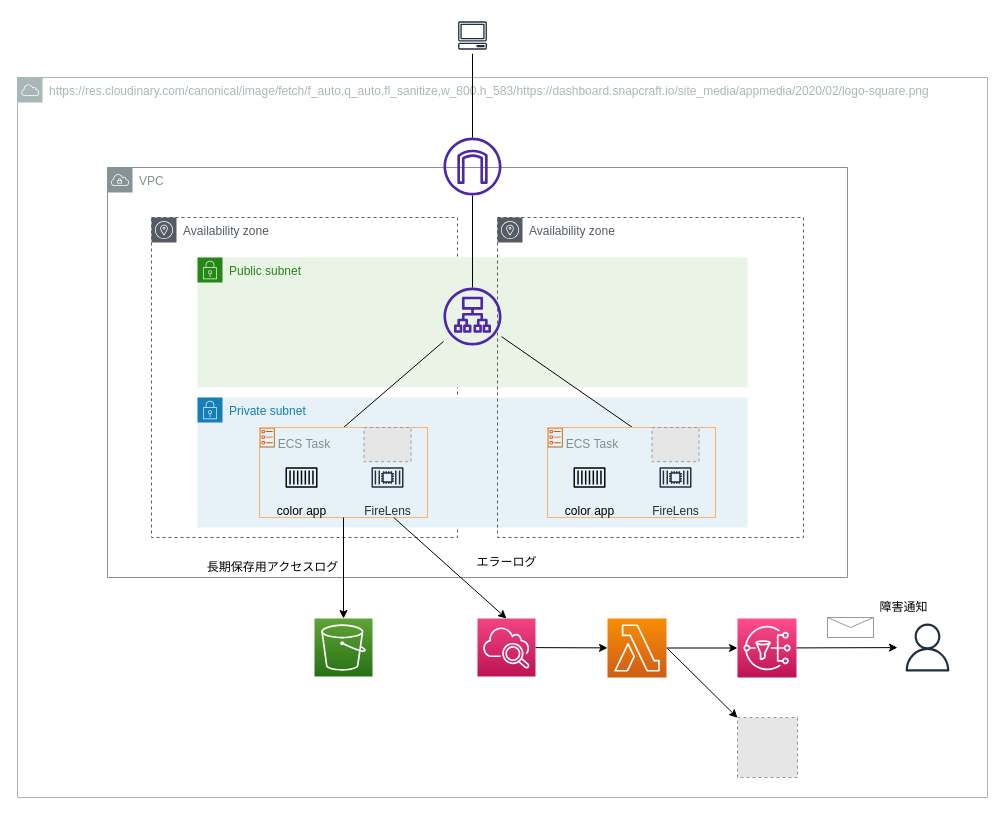
This 1005x815 diagram has some shape labels left out. Grey dashed boxes stand in for pictures. The shapes that lost their labels are listed below. From the top down, each one's centre as x and y in pixels, then its label:
At (472,35): "Client".
At (927,647): "担当者".
